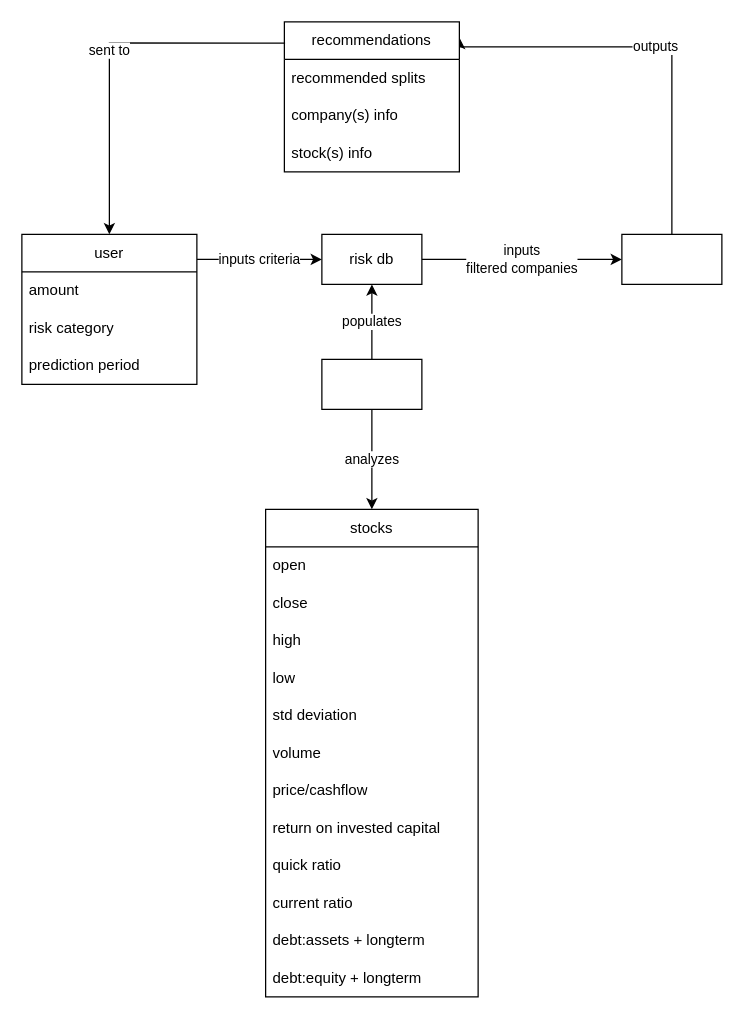
Some shapes in this 744 by 1019 pixel diagram are drawn without their labels. Each missing label, with the centre of its shape:
"ai" goes at (x=371, y=383).
"predictions" goes at (x=671, y=258).
